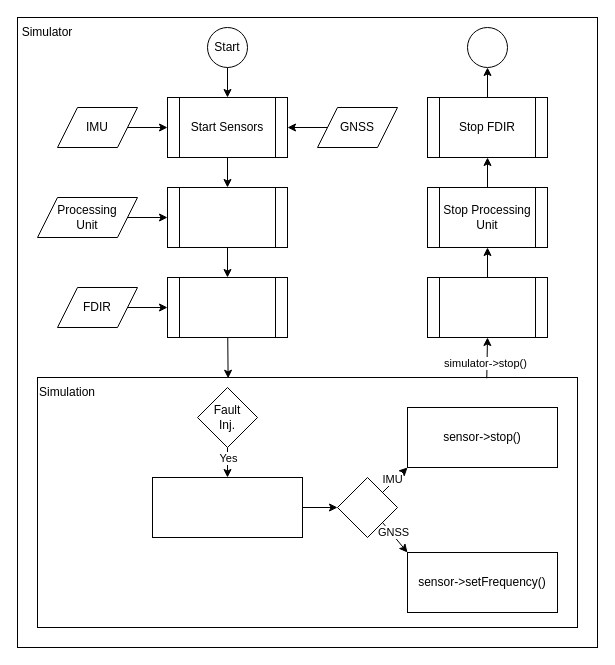
Some shapes in this 615 by 665 pixel diagram are drawn without their labels. The shapes that lost their labels are listed below. From the top down, each one's box as (x1, y1, x2, y2) in pixels, then its label:
(466, 26, 508, 68): End
(166, 186, 288, 248): Start Processing Unit
(166, 276, 288, 338): Start FDIR
(426, 276, 548, 338): Stop Sensors
(152, 476, 302, 538): sensor->injectFault(True)
(336, 476, 398, 538): Sensor
